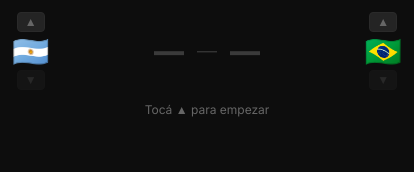
PredictionInput › segundo click en ▲ va a 1
What coordinates should you click on to do the following:
click the button named "Aumentar"
I would click on:
 (31, 22)
Its box is [17,12,45,32].
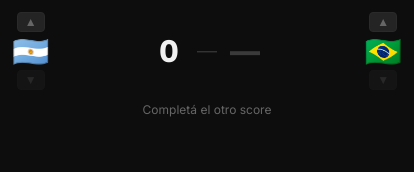
What coordinates should you click on to do the following:
click the button named "Aumentar"
I would click on:
 (31, 22)
Its box is [17,12,45,32].
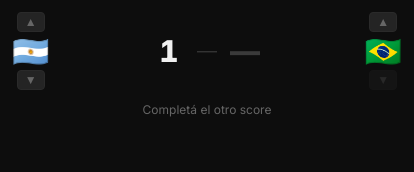
Result: the text "1" is shown at [159,33,179,69]
